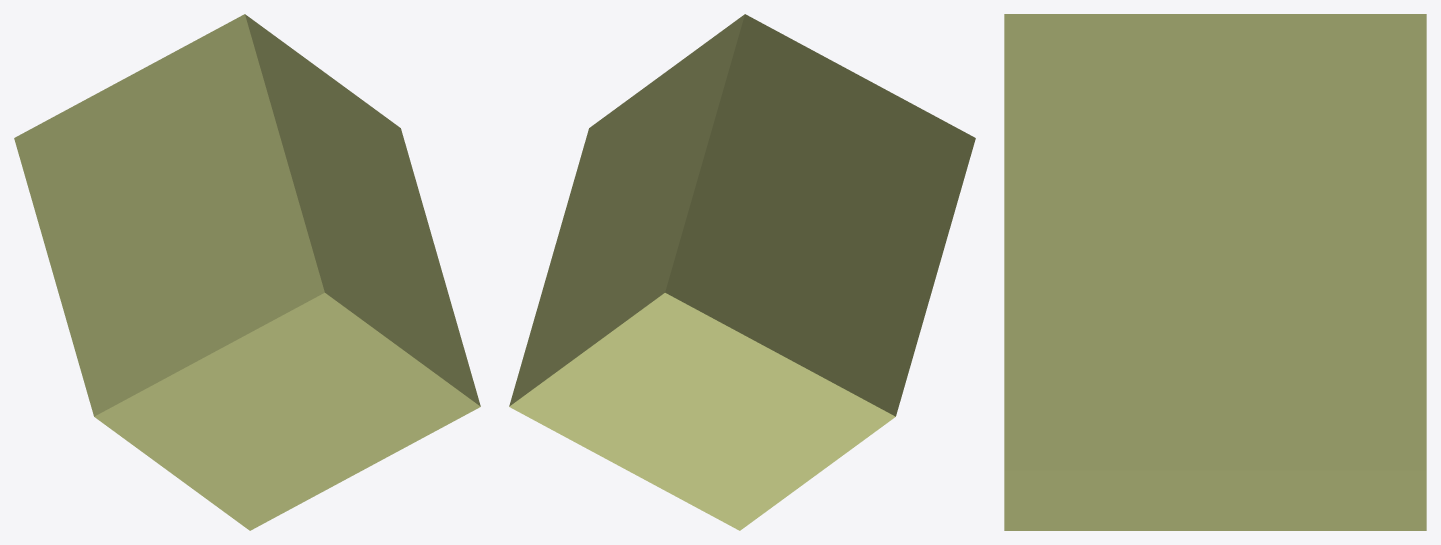
3 views of the same model, side by side, from view 1: azimuth 30°, elevation 25°; view 2: azimuth 150°, elevation 25°; view 3: azimuth 270°, elevation 25° (orthographic). The views are drawn at different scales.
Parts seen in each view (by area): view 1: 0_1_0_2_0_0_2_1_3_3_0; view 2: 0_1_0_2_0_0_2_1_3_3_0; view 3: 0_1_0_2_0_0_2_1_3_3_0.
Part boxes in pixels (x1=…): 0_1_0_2_0_0_2_1_3_3_0: x1=14, y1=14, x2=480, y2=530; 0_1_0_2_0_0_2_1_3_3_0: x1=509, y1=14, x2=975, y2=530; 0_1_0_2_0_0_2_1_3_3_0: x1=1004, y1=14, x2=1426, y2=530.
Size of the model in its own units: 6.9 by 7.76 by 6.
